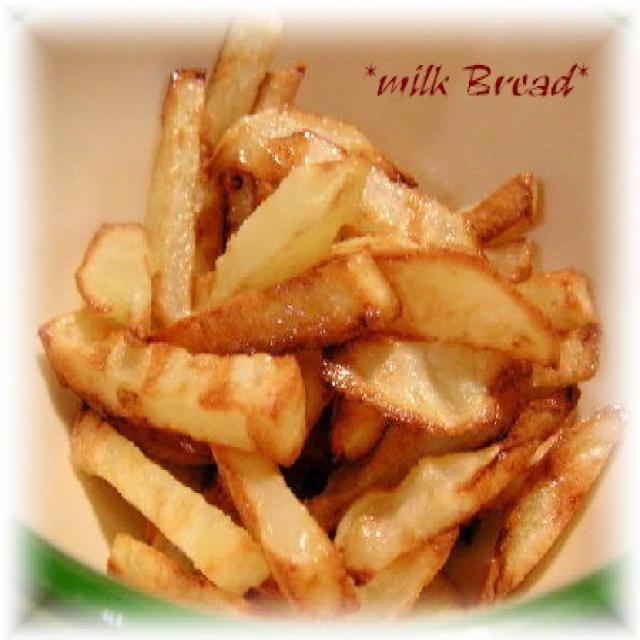French Fries: (16, 56, 617, 590)
